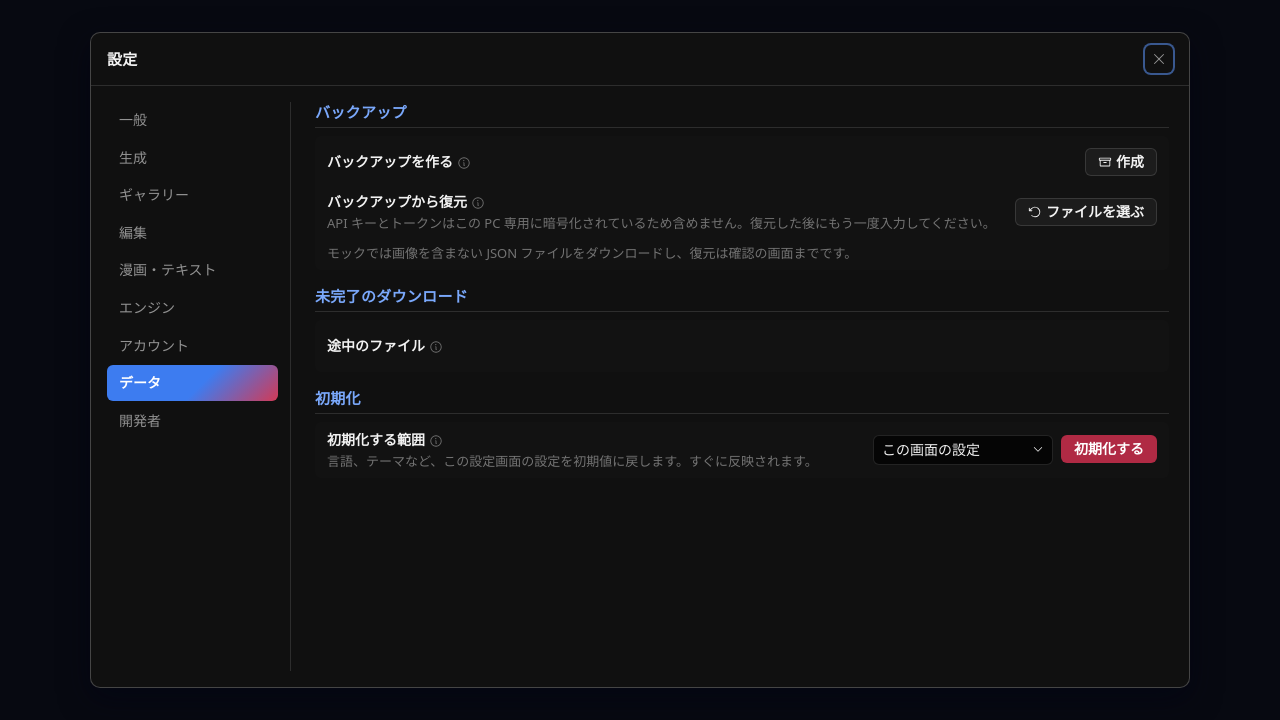
resetting › clears only the chosen part, says what it clears, and offers a reload
Click the tab with test id "settings-tab-general". click: click(192, 120)
box: [107,102,278,138]
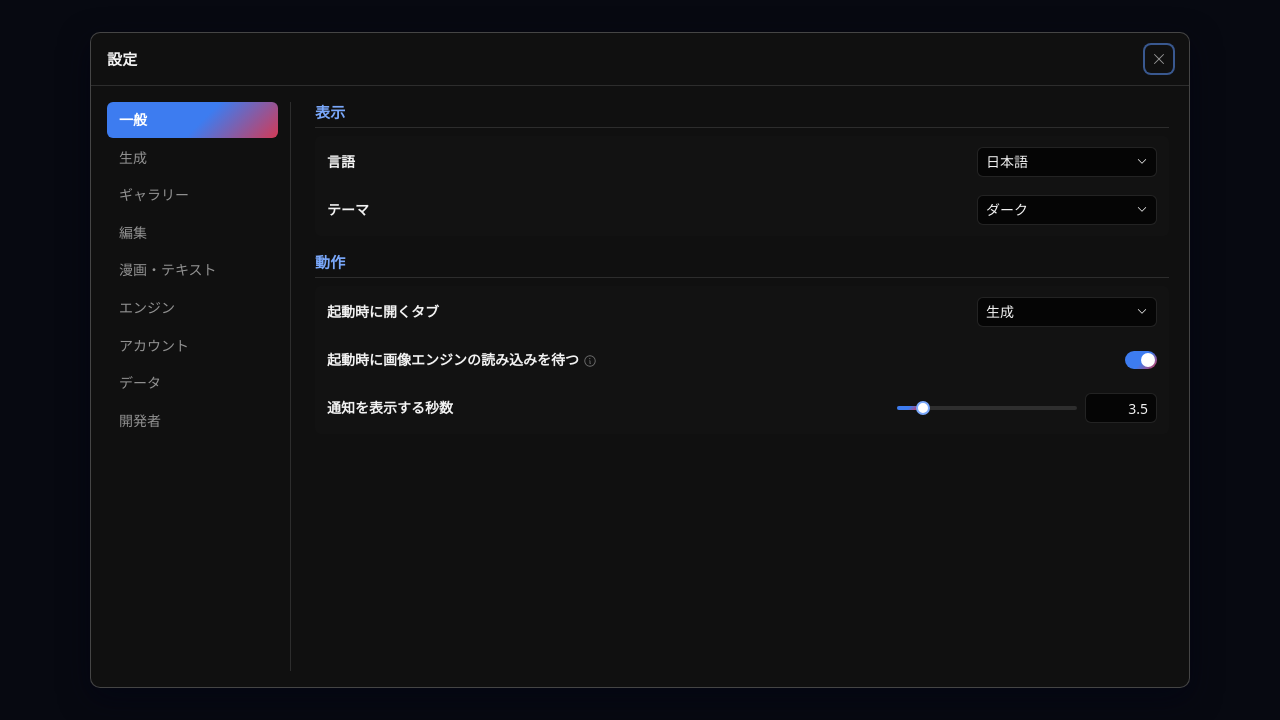
Click the tab with test id "settings-tab-data". click: click(192, 383)
box: [107,365,278,401]
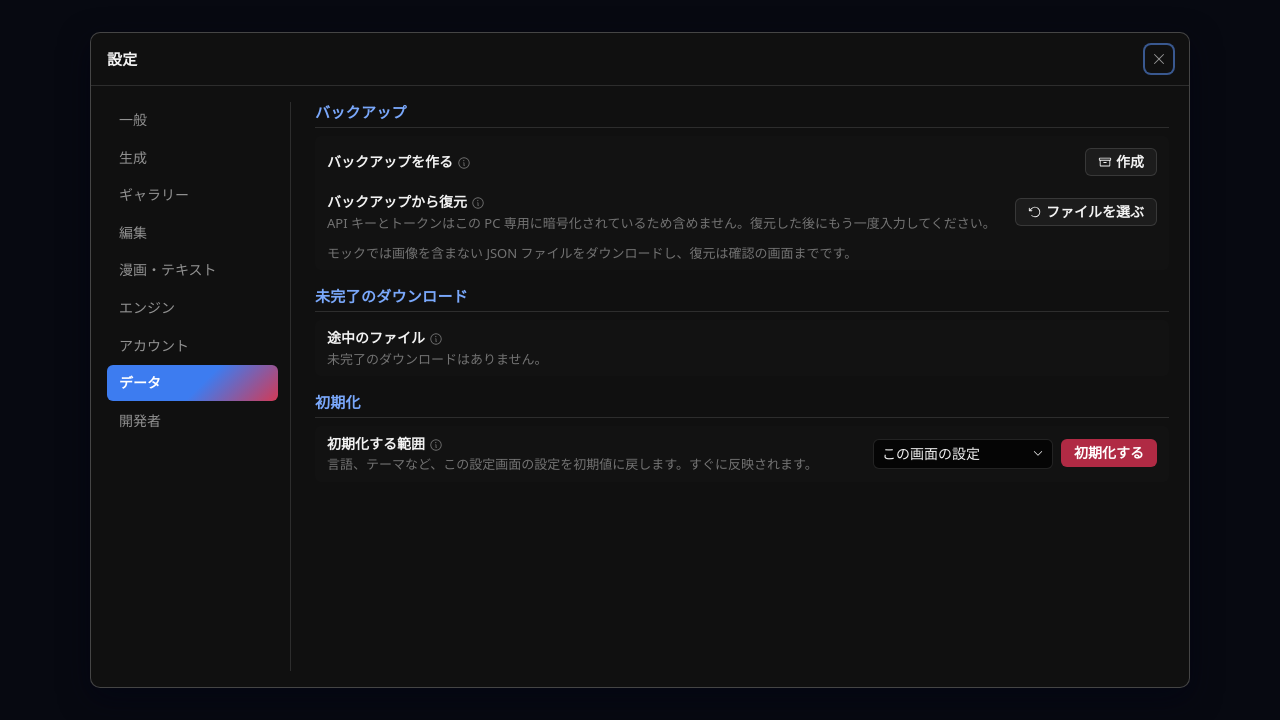
Press Enter in the dropdown with test id "settings-reset-scope", box [873,439,1053,469]
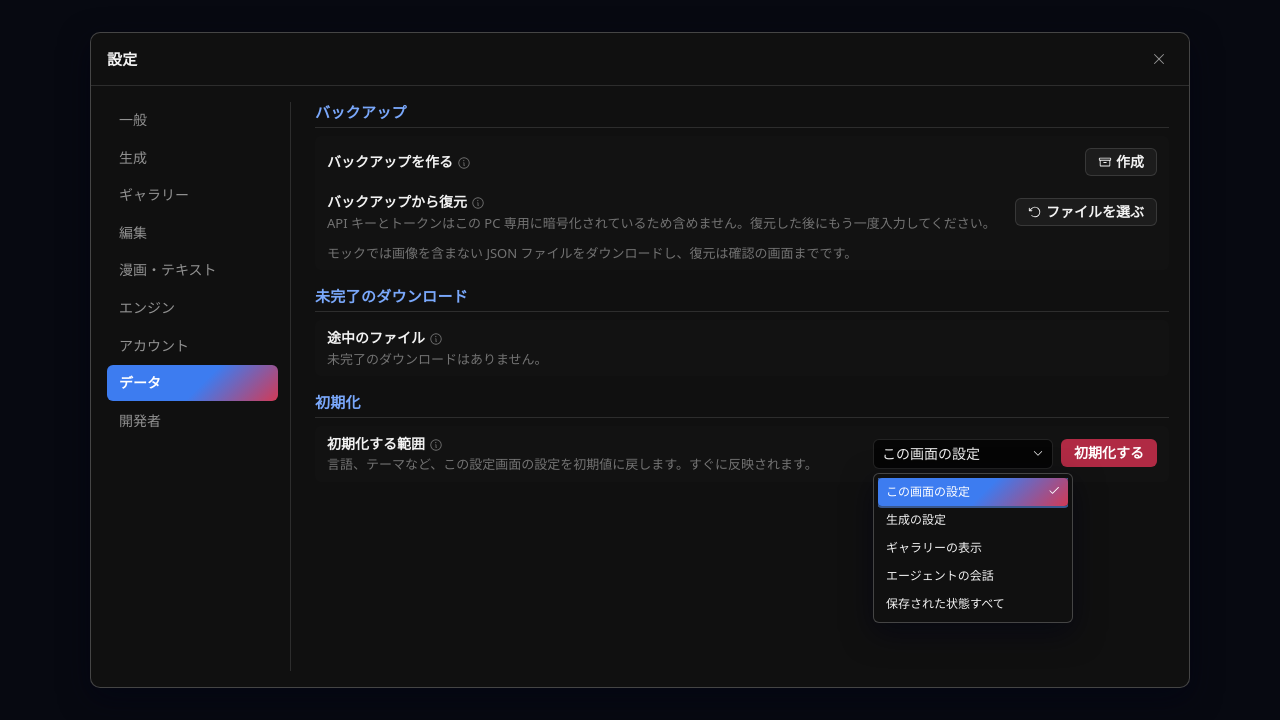
Press Enter in the option "エージェントの会話", box [886,567,994,584]
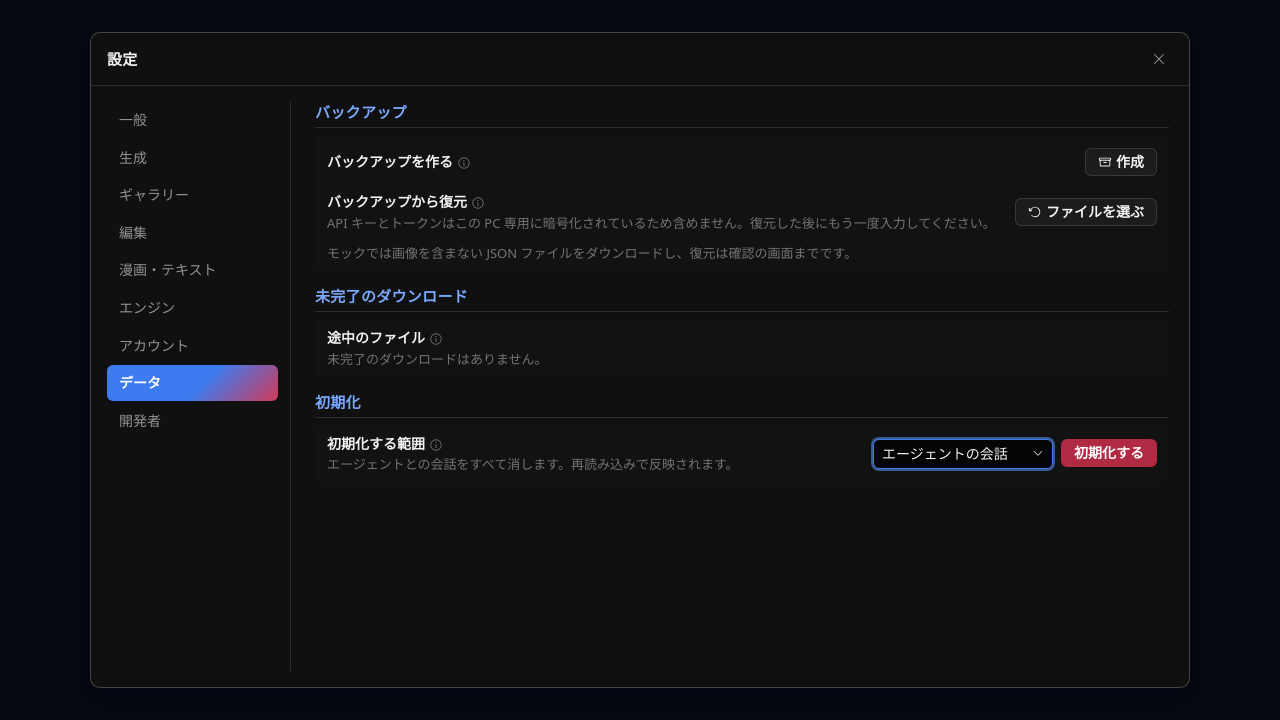
Result: the list is gone
Result: the text "エージェントとの会話をすべて消します。再読み込みで反映されます。" is shown at [327,455,739,474]
Click the button with test id "settings-reset". click: click(1109, 453)
box: [1061,439,1157,467]
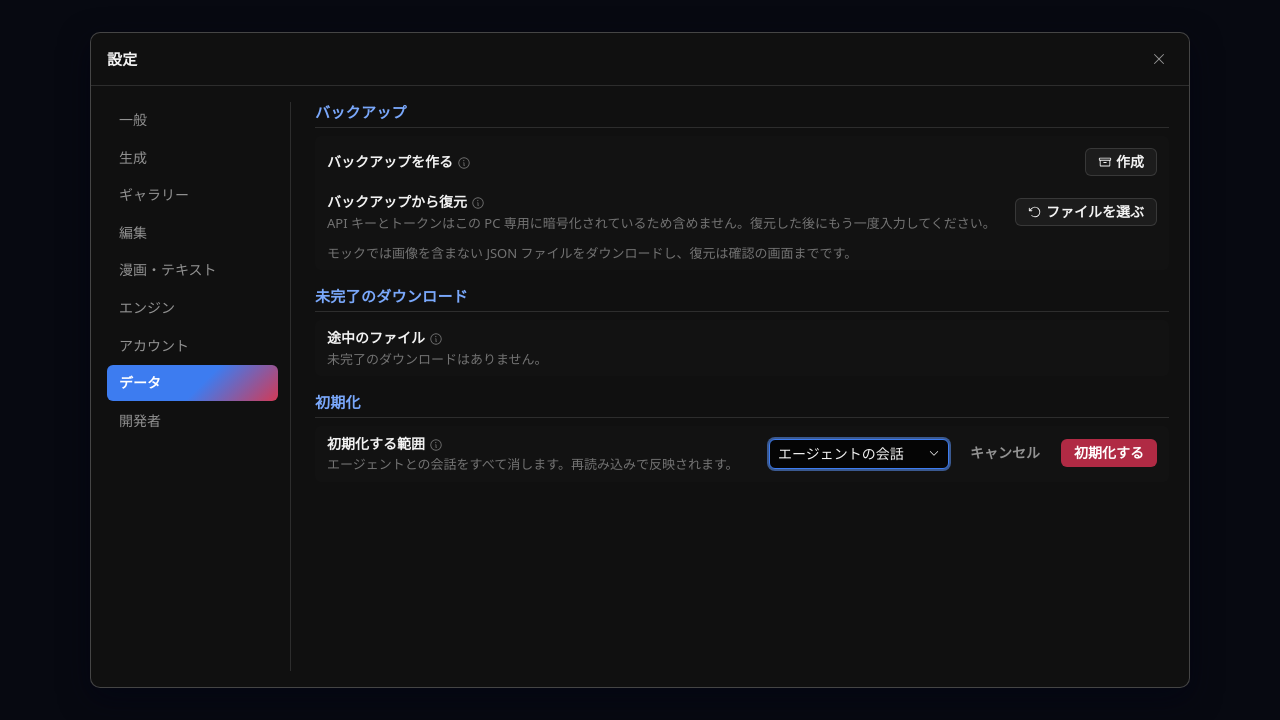
Click the button with test id "settings-reset-confirm". click: click(1109, 453)
box: [1061,439,1157,467]
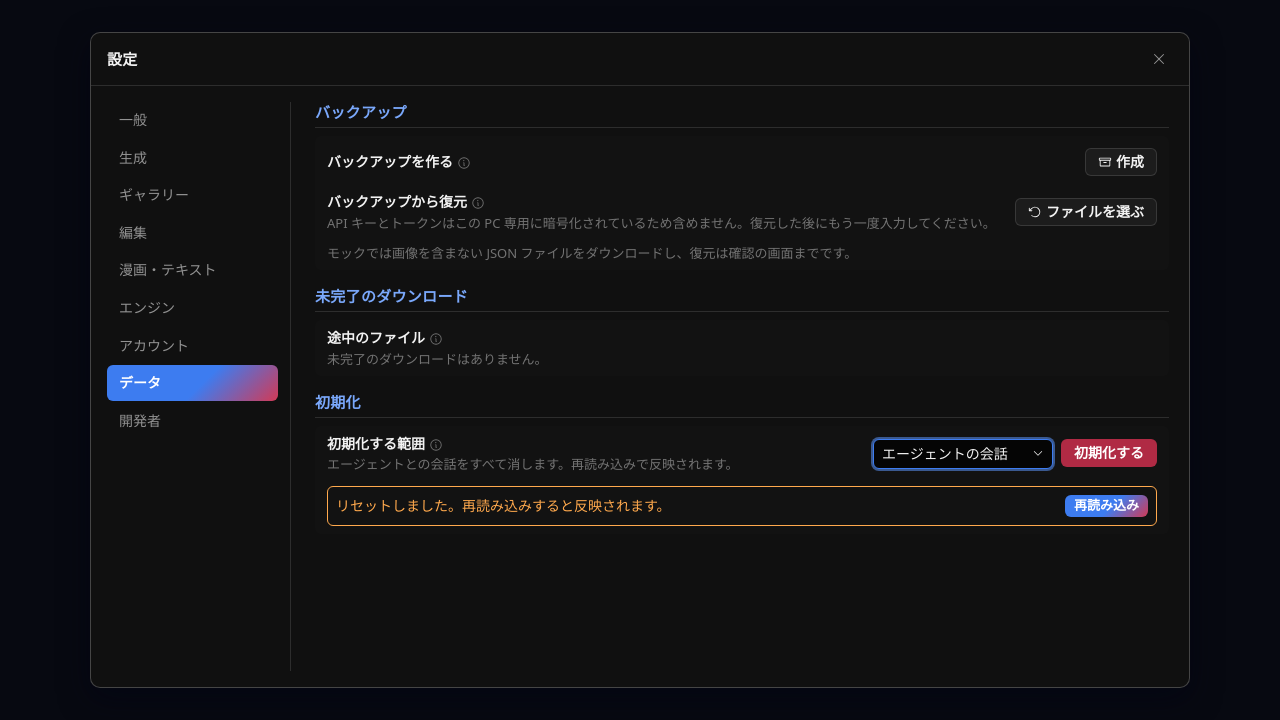
Result: the element with test id "settings-reset-done" is shown at [327,486,1157,526]
